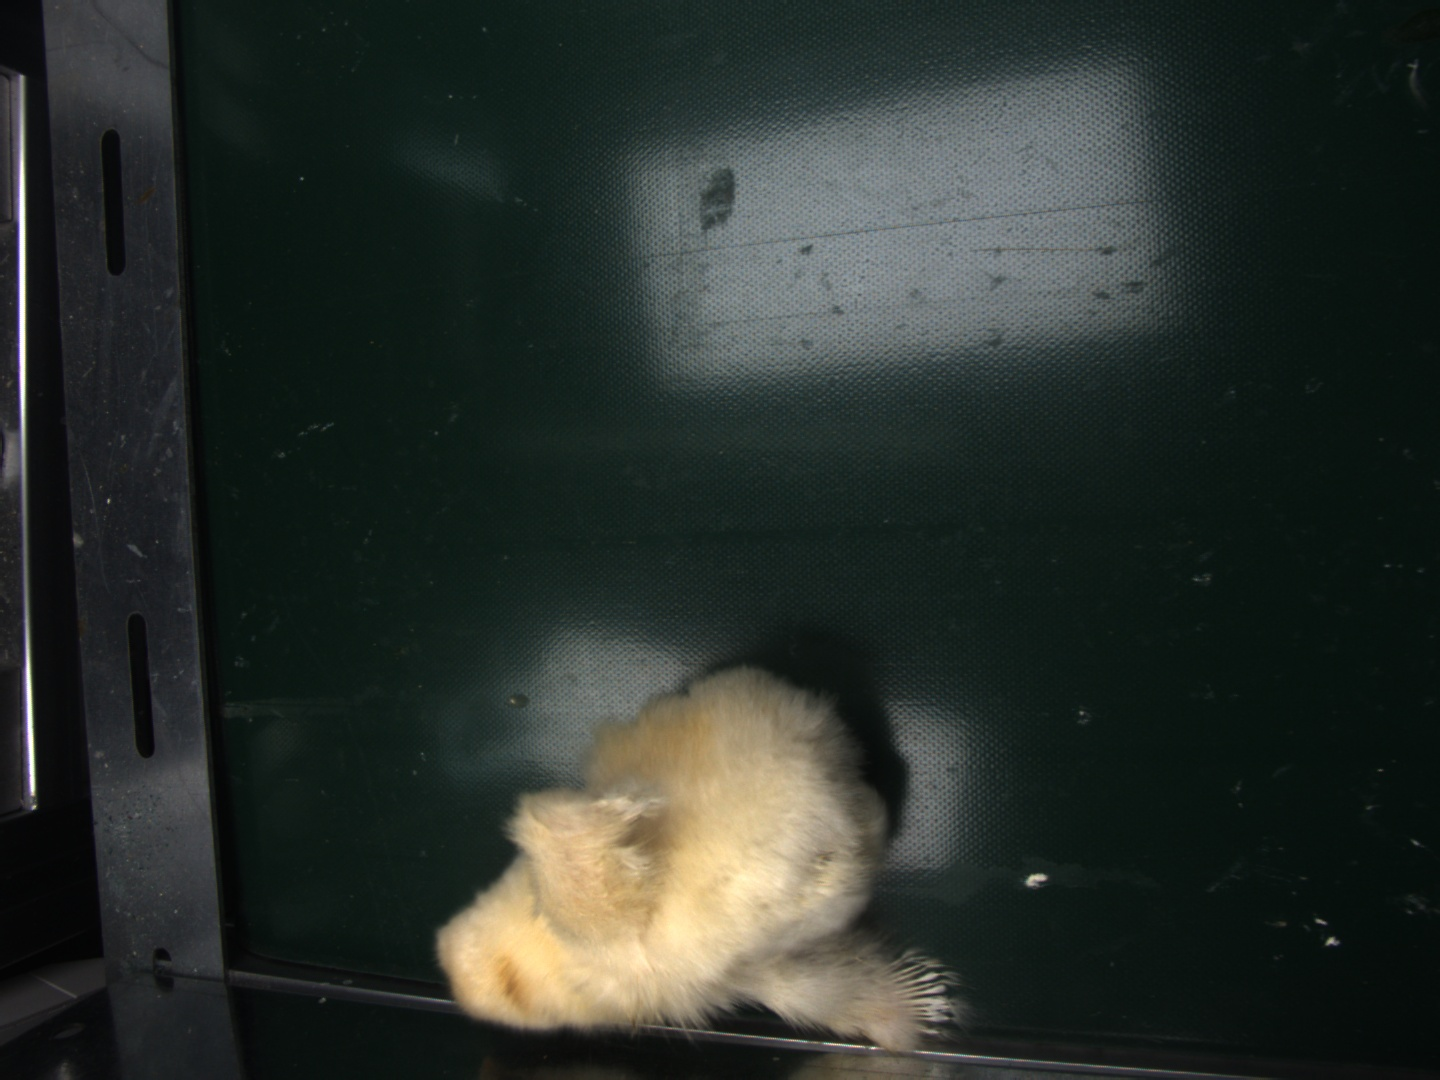male: (893, 954, 956, 1033)
